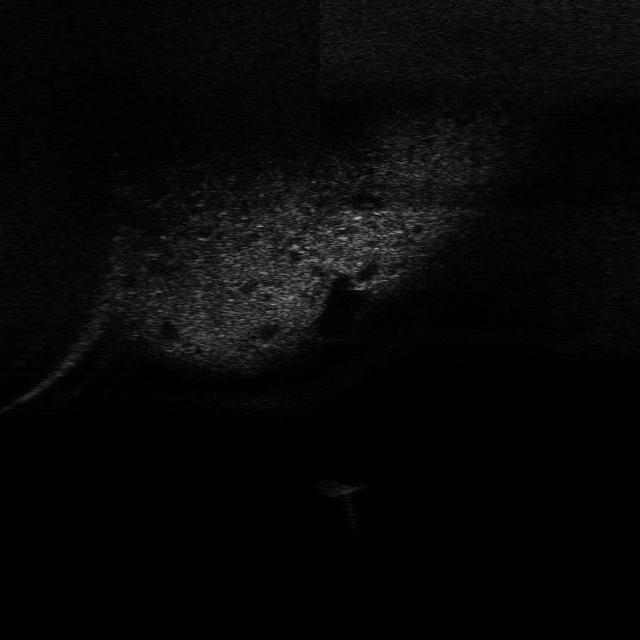cube: (310, 472, 370, 498)
